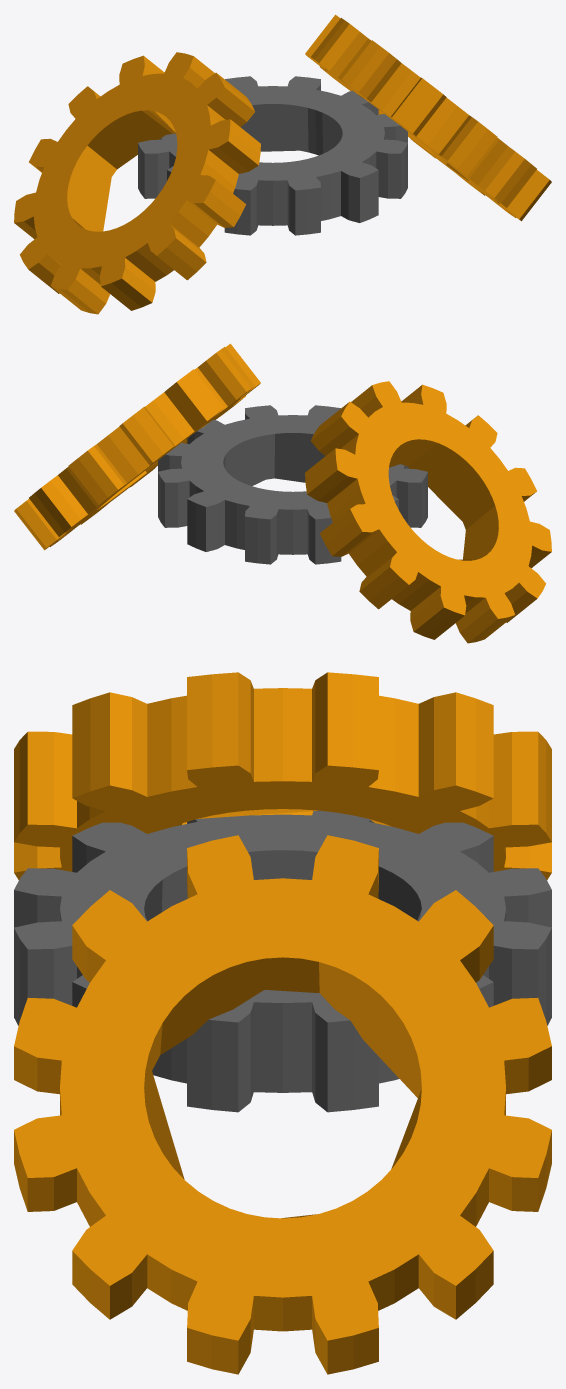
Rendered from Scrap2.fbx.
3 views of the same model, one above another, from view 1: azimuth 30°, elevation 25°; view 2: azimuth 150°, elevation 25°; view 3: azimuth 270°, elevation 25° (orthographic). The views are drawn at different scales.
Visible parts, largest first — view 1: Gear.002, Gear, Gear.001; view 2: Gear.002, Gear, Gear.001; view 3: Gear.001, Gear.002, Gear.
Part boxes in pixels (x1,y1,x2,y2): Gear.002: [14, 52, 260, 314]; Gear: [138, 76, 407, 235]; Gear.001: [305, 14, 551, 221]; Gear.002: [305, 381, 551, 643]; Gear: [158, 405, 427, 564]; Gear.001: [14, 343, 260, 550]; Gear.001: [14, 835, 551, 1374]; Gear.002: [14, 672, 551, 879]; Gear: [14, 810, 551, 1112].
Size of the model in its own units: 135 by 65.11 by 56.03.
